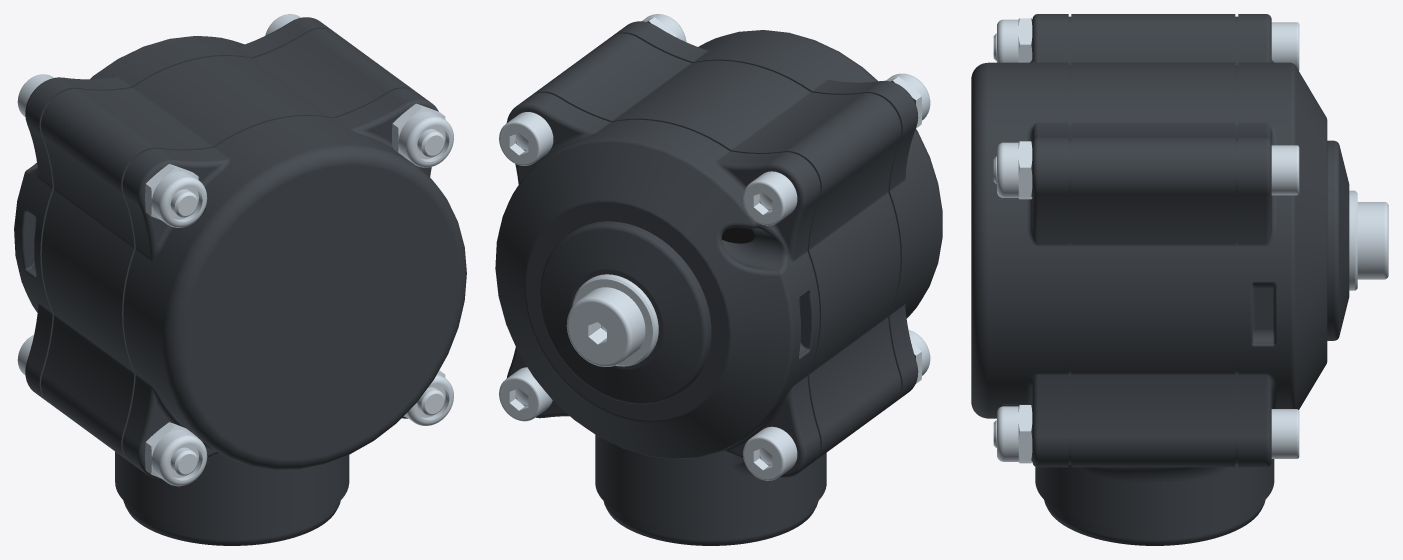
3 renders of one model, left to right at view 1: azimuth 30°, elevation 25°; view 2: azimuth 150°, elevation 25°; view 3: azimuth 270°, elevation 25°, orthographic. The views are drawn at different scales.
Parts seen in each view (by area): view 1: ID2; view 2: ID2; view 3: ID2.
Boxes of the visible parts, x1=… form: ID2: x1=14, y1=14, x2=466, y2=545; ID2: x1=495, y1=14, x2=942, y2=545; ID2: x1=971, y1=14, x2=1388, y2=545.
Size of the model in its own units: 0.0322 by 0.0375 by 0.0418.
